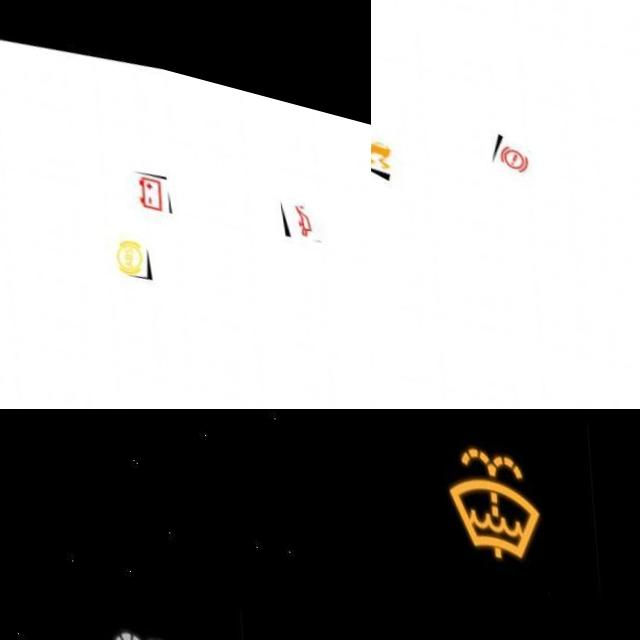Washer Fluid: (439, 421, 536, 553), (91, 609, 189, 640)
